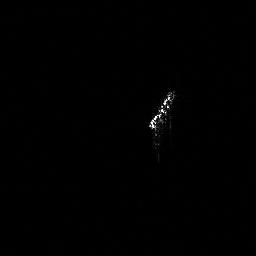ship: (144, 86, 178, 138)
